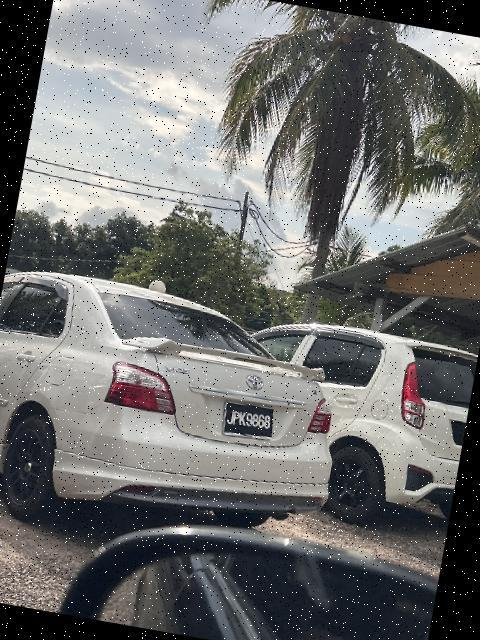JPK9868: (217, 398, 280, 446)
License_Plate: (217, 398, 280, 446)
car: (1, 264, 355, 563), (224, 314, 479, 538)
